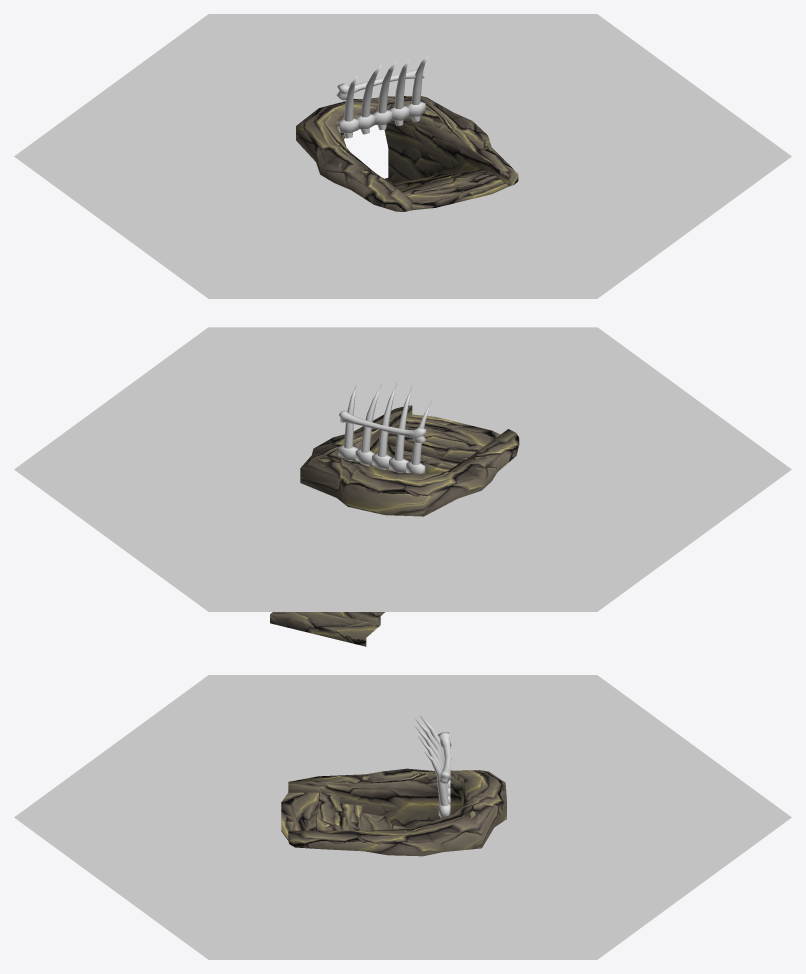
Rendered from Hex_Stairs.FBX.
3 renders of one model, top to bottom at view 1: azimuth 30°, elevation 25°; view 2: azimuth 150°, elevation 25°; view 3: azimuth 270°, elevation 25°, orthographic.
Visible parts, largest first — view 1: Hex_Stairs, Prop_StairsDown, StairsDown_Gate; view 2: Hex_Stairs, Prop_StairsDown, StairsDown_Gate; view 3: Hex_Stairs, Prop_StairsDown, StairsDown_Gate.
Part boxes in pixels (left/top/right/bottom): Hex_Stairs: left=14, top=14, right=791, bottom=298; Prop_StairsDown: left=296, top=96, right=518, bottom=211; StairsDown_Gate: left=336, top=56, right=428, bottom=138; Hex_Stairs: left=14, top=327, right=791, bottom=611; Prop_StairsDown: left=270, top=405, right=519, bottom=646; StairsDown_Gate: left=338, top=382, right=431, bottom=473; Hex_Stairs: left=14, top=675, right=791, bottom=959; Prop_StairsDown: left=281, top=768, right=506, bottom=856; StairsDown_Gate: left=415, top=716, right=451, bottom=818.
Bounding box in the file's own units: 30.31 × 9.71 × 35.
